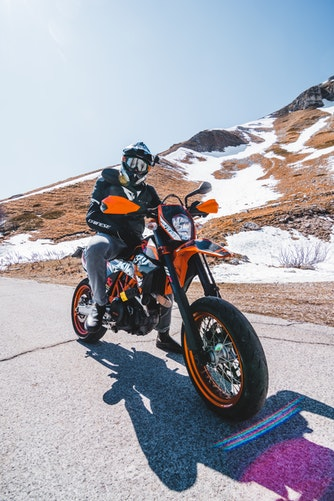helmet: (122, 143, 158, 183)
